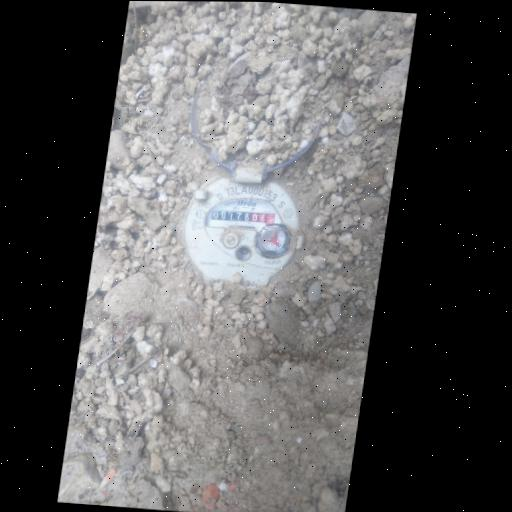0: (210, 210, 220, 220), (218, 210, 228, 220), (251, 213, 259, 223)
1: (226, 211, 236, 221)
2: (266, 213, 276, 225)
6: (258, 214, 266, 224)
7: (234, 211, 244, 222)
8: (243, 213, 251, 222)
border_water_meter_number: (208, 204, 278, 228)
